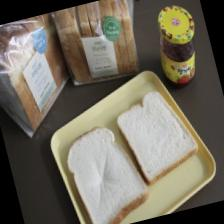bread: (59, 117, 155, 224), (110, 82, 204, 188)
